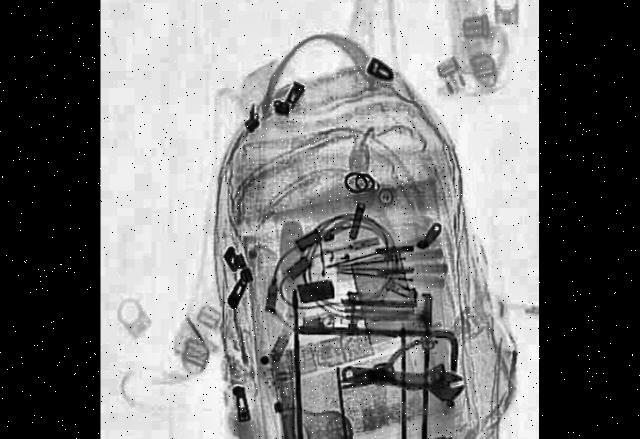Wrench: (338, 354, 462, 405)
